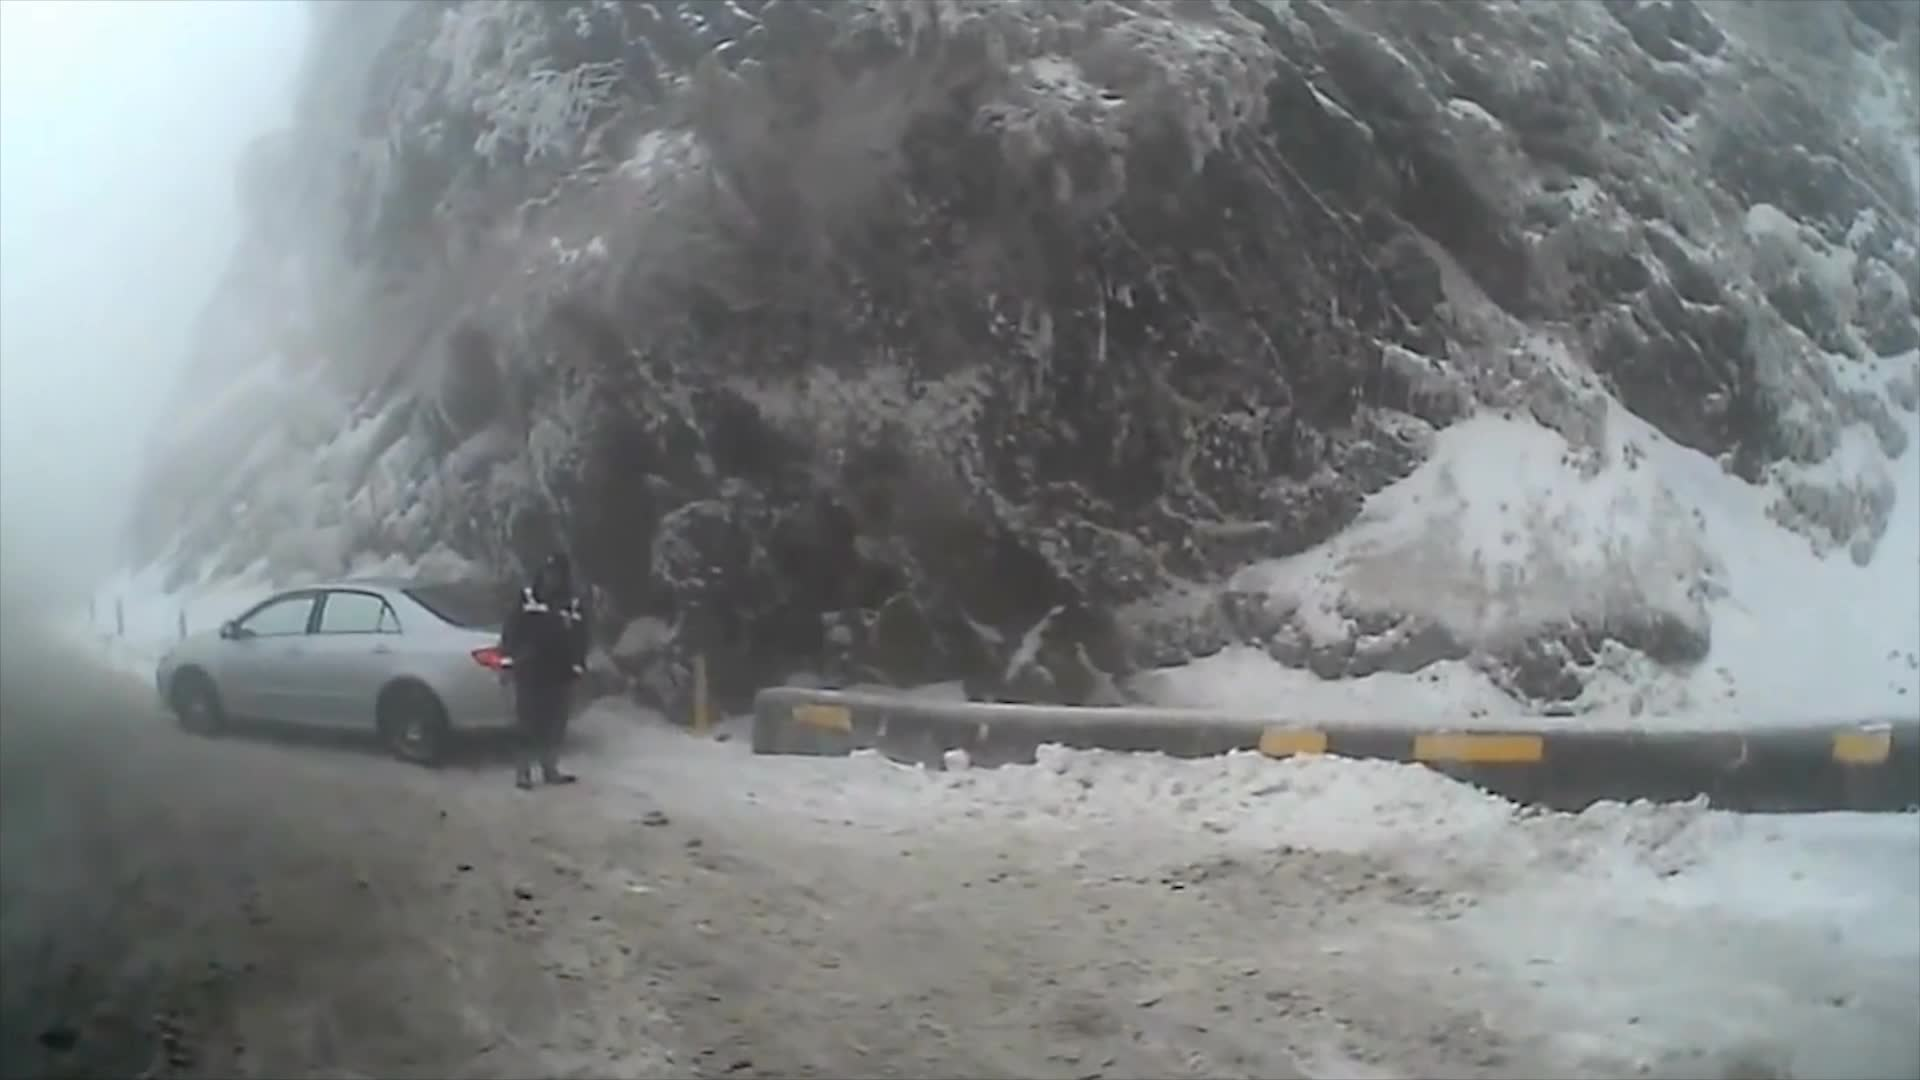pedestrian: (506, 551, 590, 788)
vehicle: (154, 574, 599, 769)
